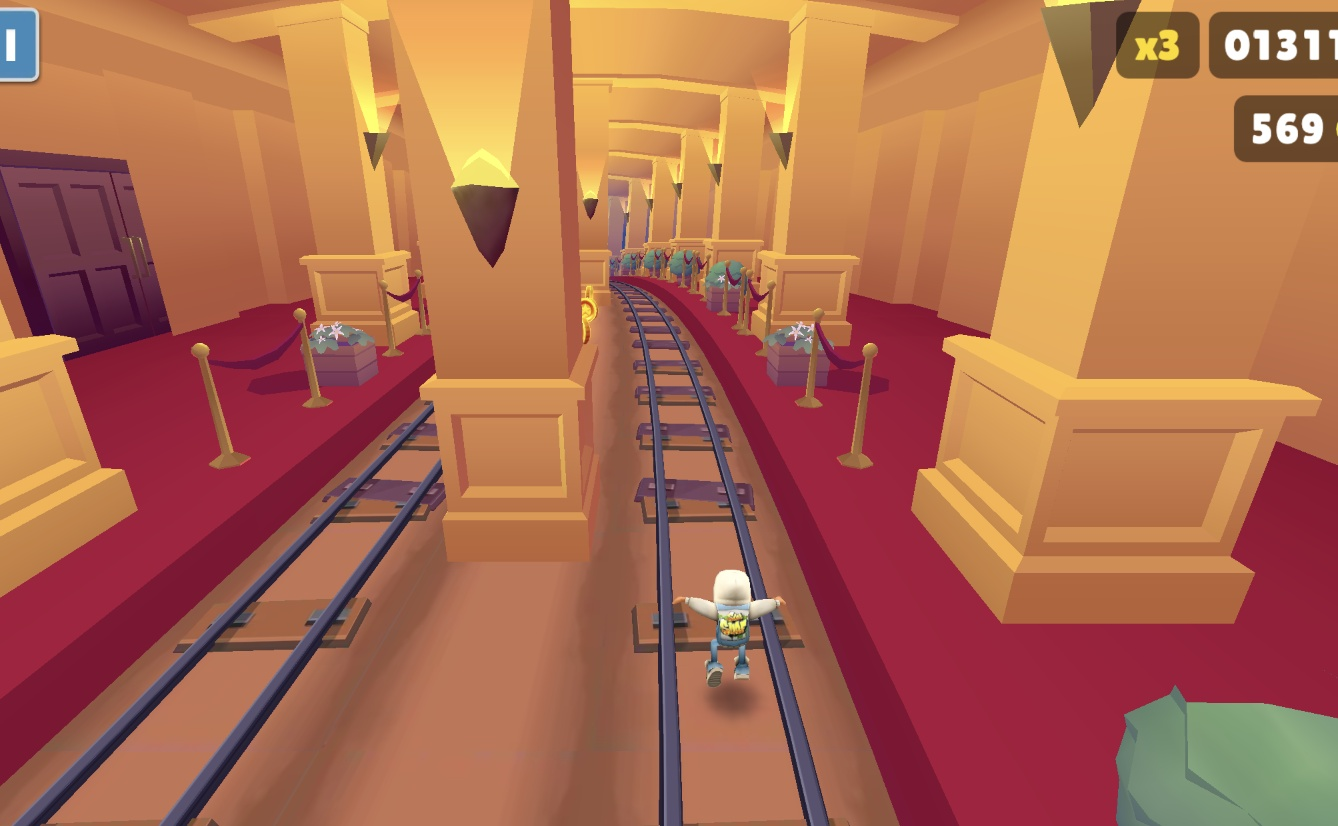pillar: (377, 0, 592, 564)
